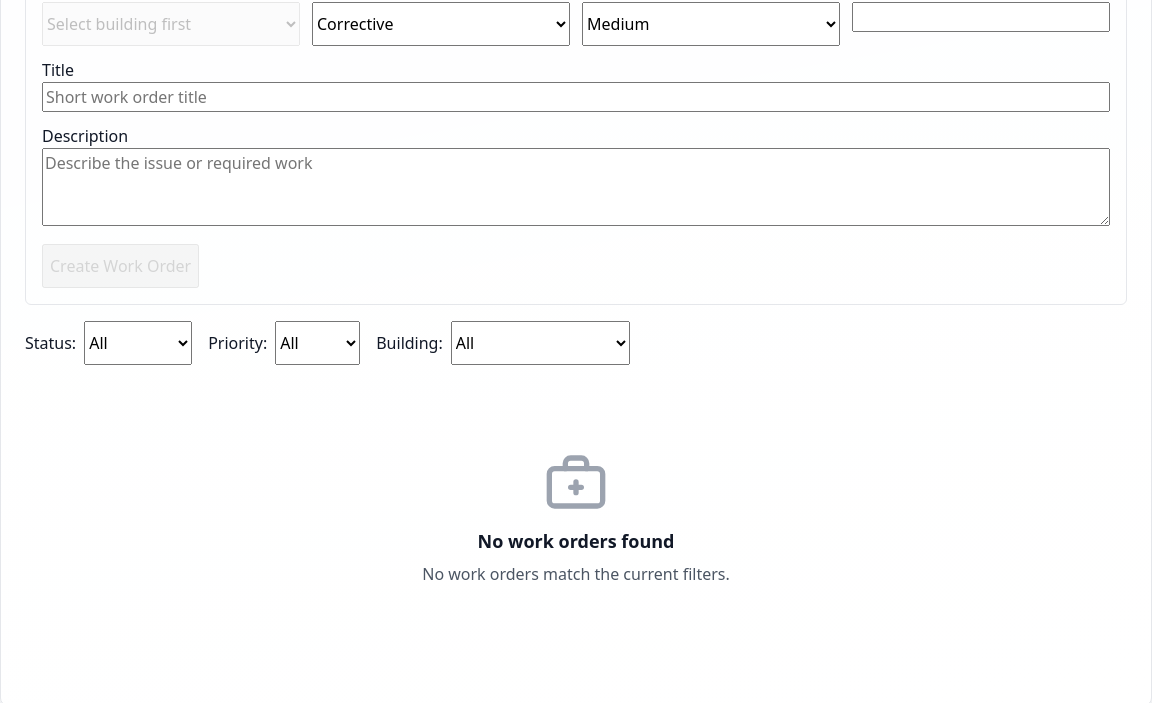
Test: WorkOrdersPage › enforces create flow gating until building + asset + title are set
The image size is (1152, 703).
(page scrolled)
Expected: the button "Create Work Order" is disabled, [42,244,199,288]
Select "HQ-1 - Headquarters" in the dropdown labelled "Building:" at x=540, y=343, box [451,321,630,365]
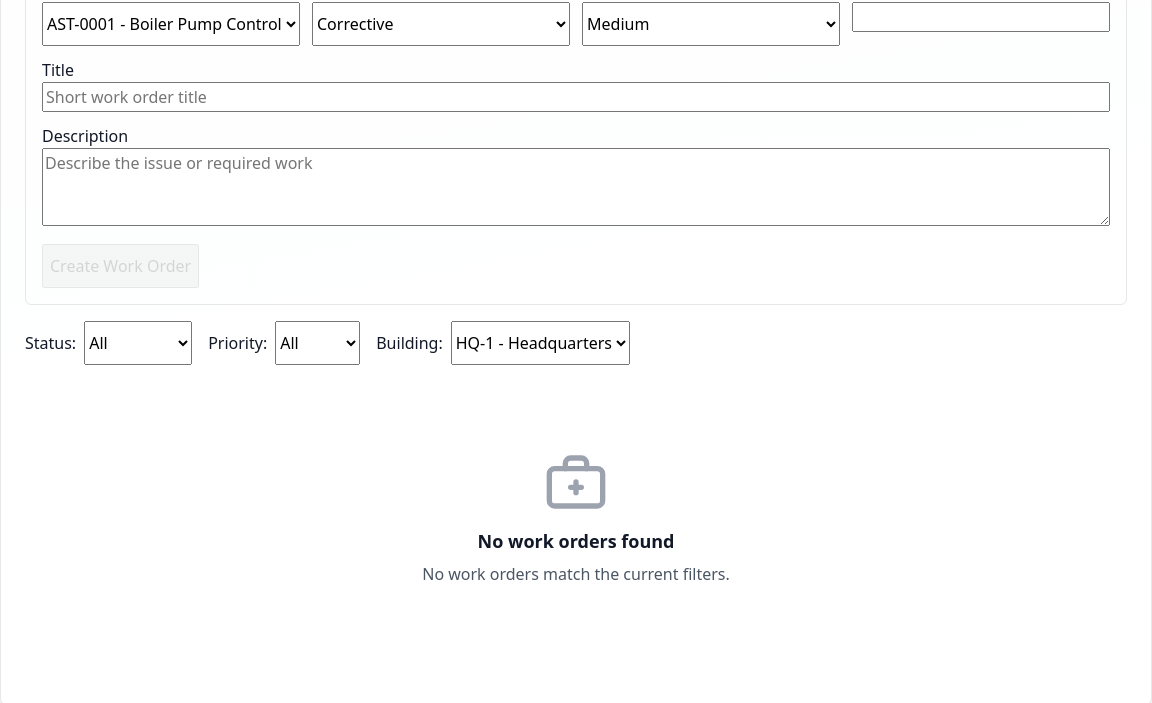
Expected: the button "Create Work Order" is disabled, [42,244,199,288]
Type "Inspect controller" into the field labelled "Title" at x=576, y=97, box [42,82,1110,112]
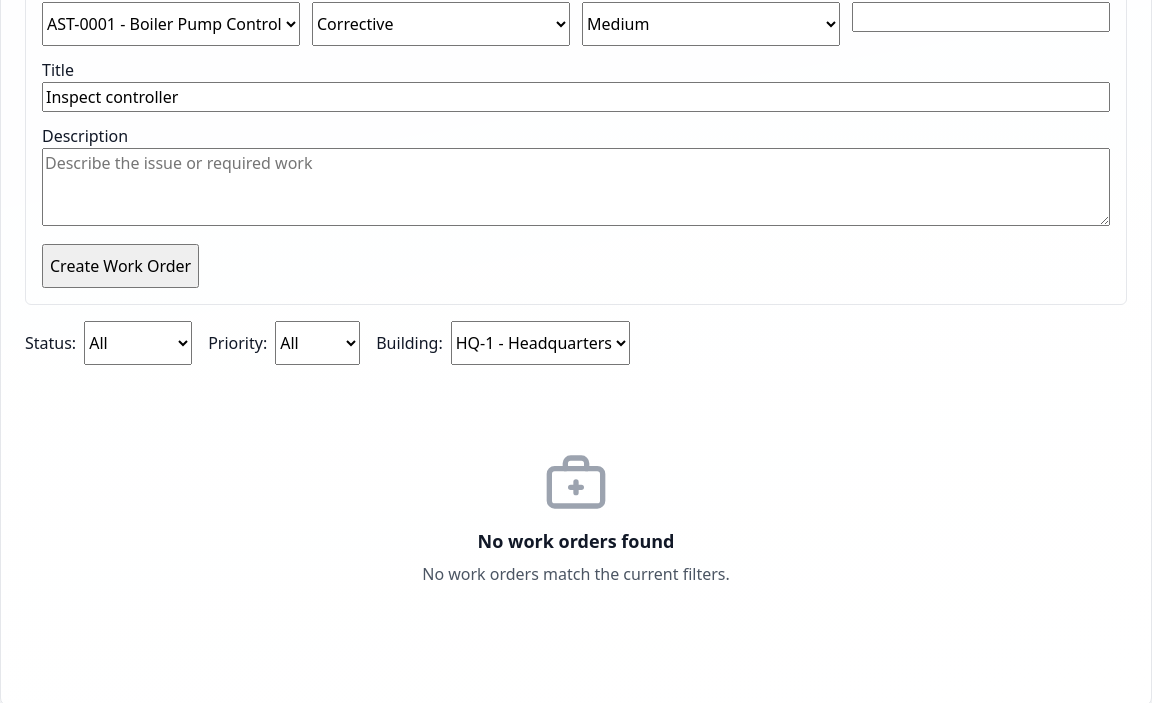
Result: the button "Create Work Order" is enabled at [42,244,199,288]
